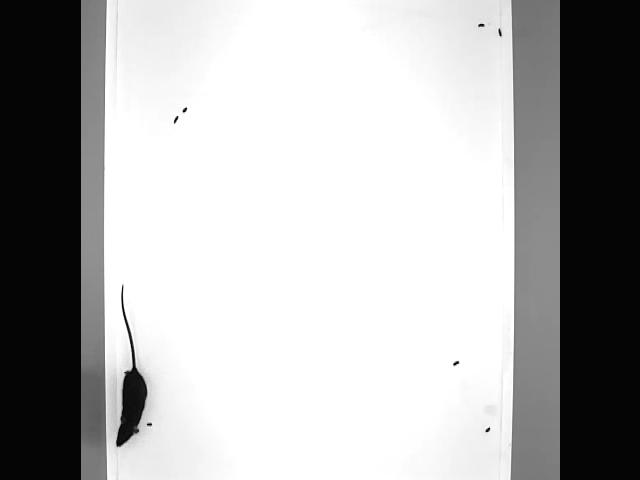Tikus: (110, 283, 152, 450)
